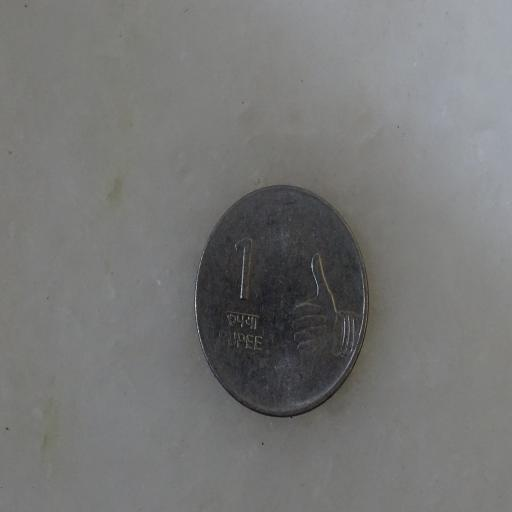rupee1: (194, 183, 371, 420)
